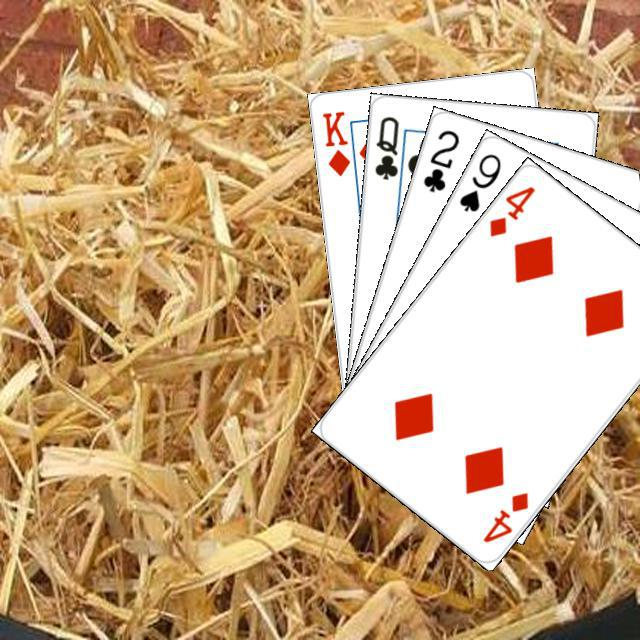2c: (418, 125, 461, 194)
4d: (478, 486, 531, 545), (484, 181, 537, 239)
9s: (454, 148, 503, 214)
Kd: (317, 106, 352, 178)
Qc: (370, 111, 411, 189)
